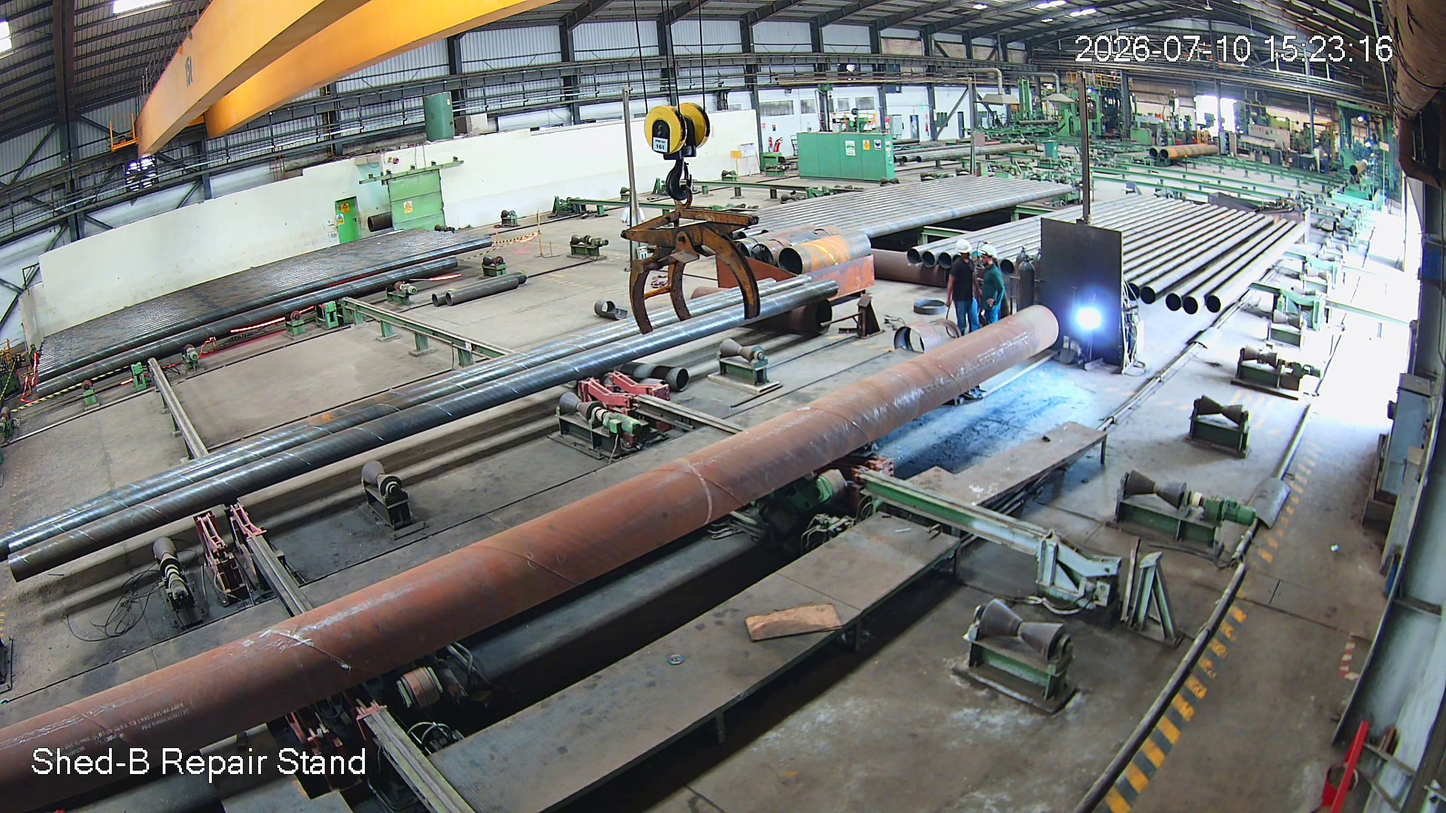Helmet: (980, 240, 1009, 272), (951, 236, 973, 267)
Person: (947, 241, 983, 335), (979, 244, 1008, 328)
